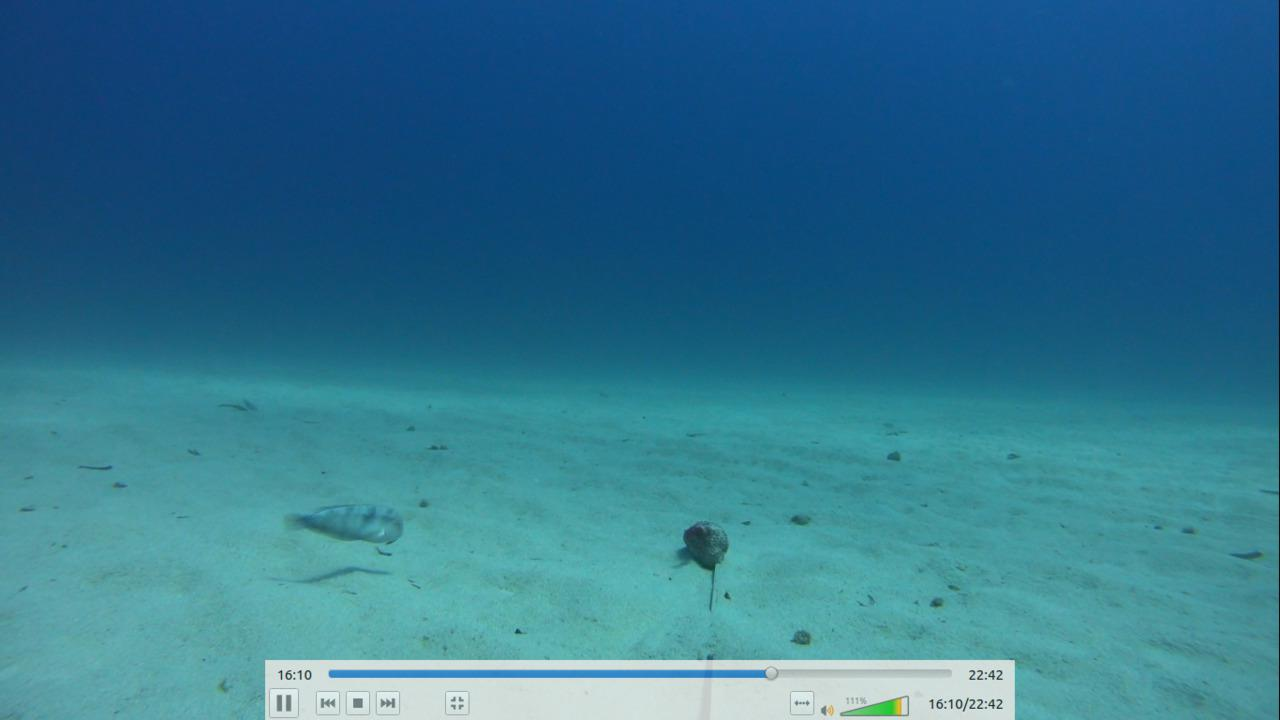raor: (277, 501, 408, 553)
